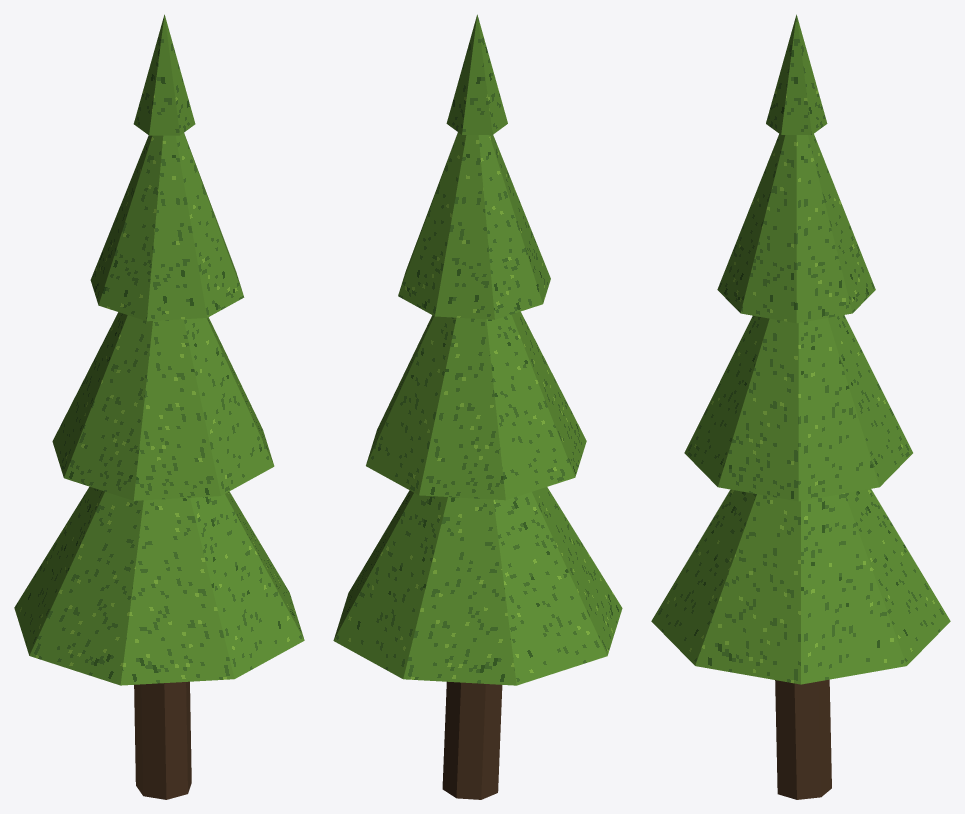
File: forest_tree_02.glb
The picture shows the model from 3 angles, left to right: view 1: azimuth 30°, elevation 25°; view 2: azimuth 150°, elevation 25°; view 3: azimuth 270°, elevation 25°; orthographic projection.
Parts seen in each view (by area): view 1: foliage_tier_0, foliage_tier_1, foliage_tier_2, trunk, tip; view 2: foliage_tier_0, foliage_tier_1, foliage_tier_2, trunk, tip; view 3: foliage_tier_0, foliage_tier_1, foliage_tier_2, trunk, tip.
Part boxes in pixels (x1,y1,x2,y2): foliage_tier_0: (14, 486, 304, 685); foliage_tier_1: (52, 312, 274, 500); foliage_tier_2: (90, 133, 244, 321); trunk: (134, 681, 191, 799); tip: (133, 14, 195, 135); foliage_tier_0: (333, 487, 622, 685); foliage_tier_1: (366, 311, 586, 500); foliage_tier_2: (398, 132, 550, 319); trunk: (442, 681, 502, 799); tip: (446, 14, 507, 134); foliage_tier_0: (651, 489, 950, 684); foliage_tier_1: (684, 315, 912, 501); foliage_tier_2: (717, 134, 875, 323); trunk: (775, 679, 831, 799); tip: (766, 14, 827, 134).
Size of what is drawn, in the model's own units: 1.36 by 3.88 by 1.36.
2 materials, 1 textured.
